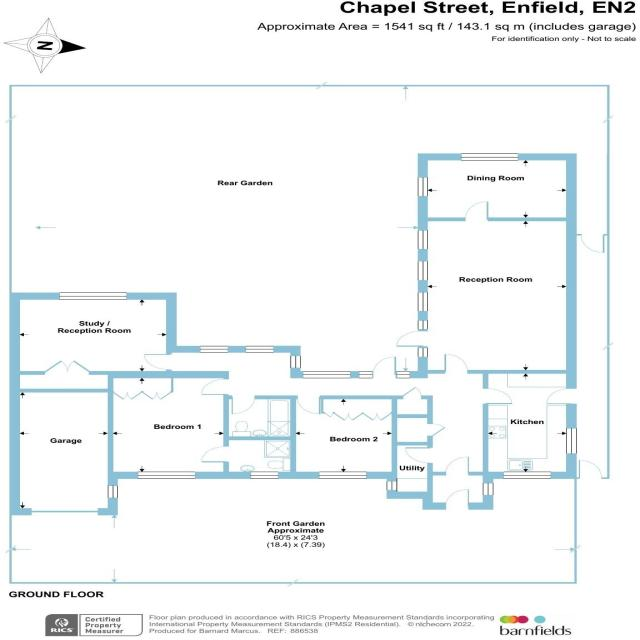DOOR: (546, 388, 577, 405), (444, 489, 469, 510), (483, 388, 513, 405), (464, 201, 489, 221), (577, 460, 603, 479), (200, 378, 229, 395), (444, 354, 468, 374), (297, 395, 321, 415), (201, 446, 229, 463), (444, 457, 469, 476), (231, 395, 256, 414), (143, 354, 172, 370)
ROOM: (395, 201, 577, 374), (9, 292, 178, 375), (107, 371, 229, 479), (418, 153, 577, 222), (482, 370, 576, 479), (290, 395, 397, 480)
WINDOW: (59, 292, 127, 300), (459, 153, 519, 161), (137, 472, 196, 479), (301, 371, 351, 379), (318, 472, 367, 480), (503, 471, 551, 479), (565, 427, 577, 454), (417, 261, 428, 281), (417, 230, 428, 250), (417, 177, 428, 197), (244, 346, 274, 353), (249, 472, 279, 479), (417, 292, 428, 311), (199, 346, 228, 353), (482, 482, 494, 496), (107, 485, 118, 499), (290, 355, 301, 369), (357, 371, 373, 379), (386, 481, 398, 491), (417, 348, 428, 358), (417, 320, 428, 330), (396, 371, 410, 378)
